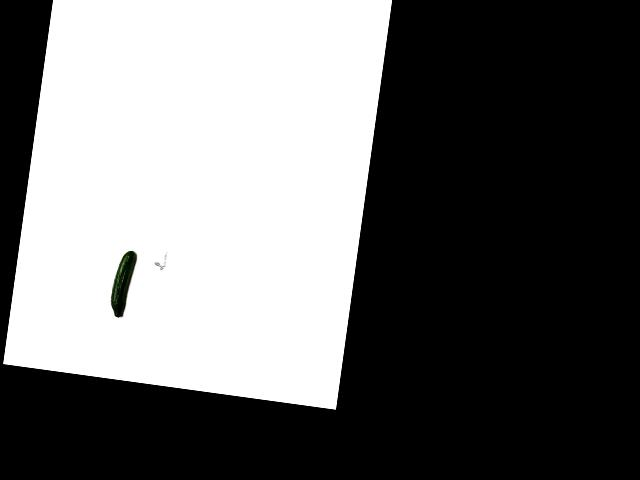cucumber: (109, 248, 137, 318)
